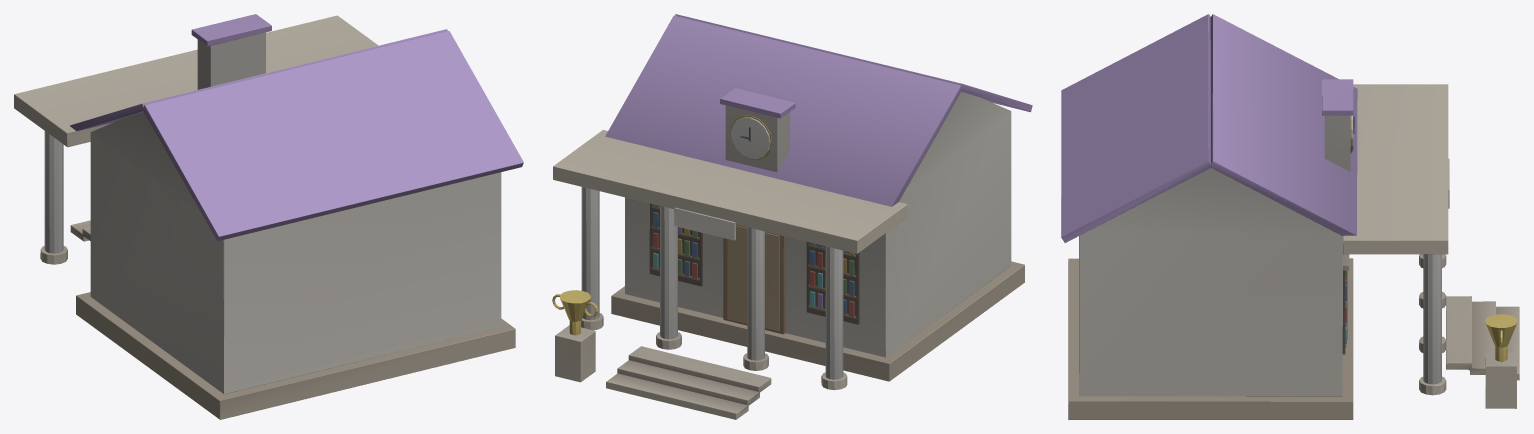
The model's file is records_hall_low.glb.
3 views of the same model, side by side, from view 1: azimuth 30°, elevation 25°; view 2: azimuth 150°, elevation 25°; view 3: azimuth 270°, elevation 25° (orthographic). The views are drawn at different scales.
Size of the model in its own units: 7 by 5.46 by 8.68.
